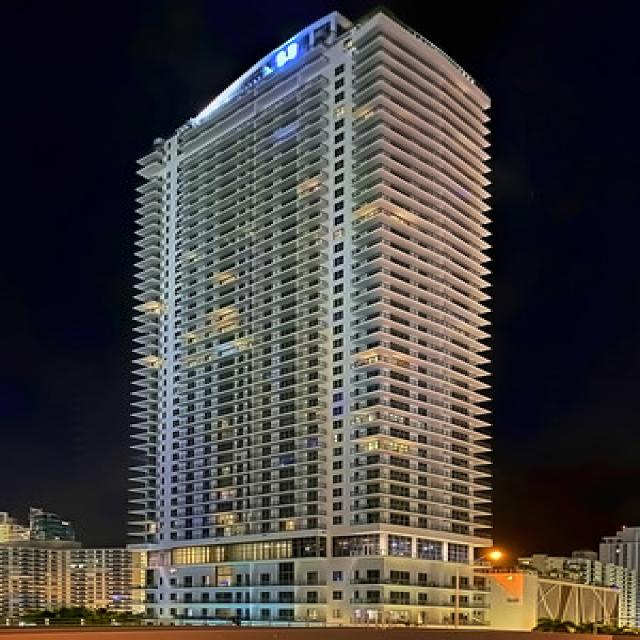building: (118, 4, 502, 634)
